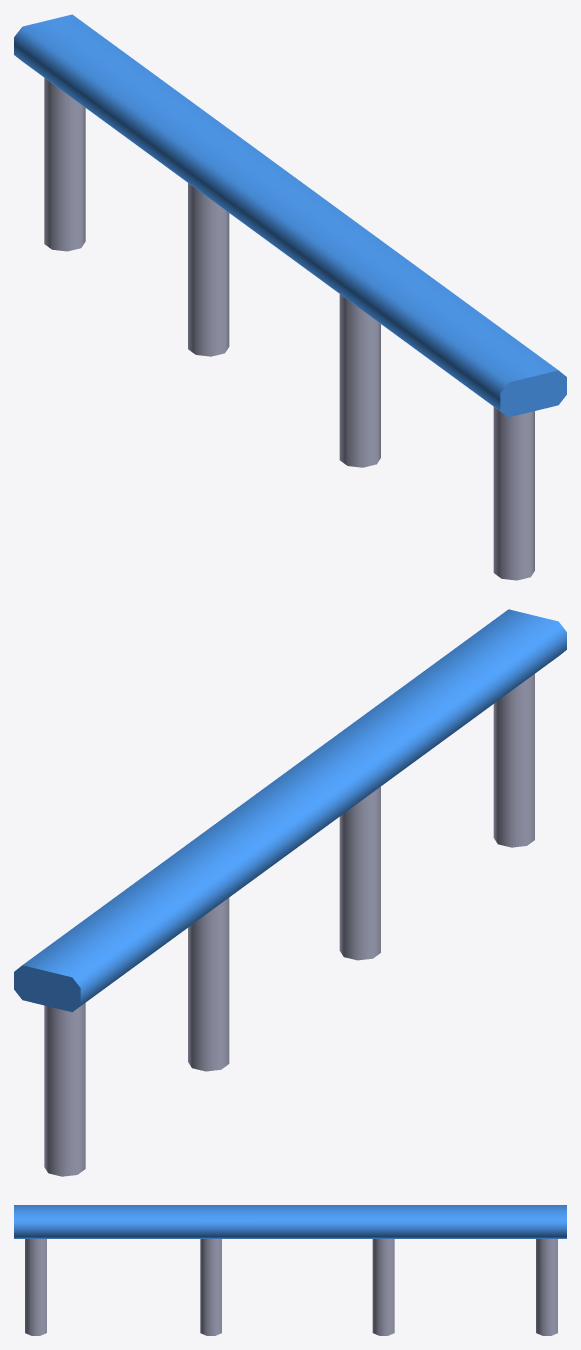
File: Barriere.fbx
The picture shows the model from 3 angles, top to bottom: view 1: azimuth 30°, elevation 25°; view 2: azimuth 150°, elevation 25°; view 3: azimuth 270°, elevation 25°; orthographic projection. The views are drawn at different scales.
Parts seen in each view (by area): view 1: Barriere; view 2: Barriere; view 3: Barriere.
Part boxes in pixels (x1,y1,x2,y2): Barriere: [14, 14, 566, 580]; Barriere: [14, 609, 566, 1176]; Barriere: [14, 1205, 566, 1335].
Size of the model in its own units: 40 by 120 by 505.
